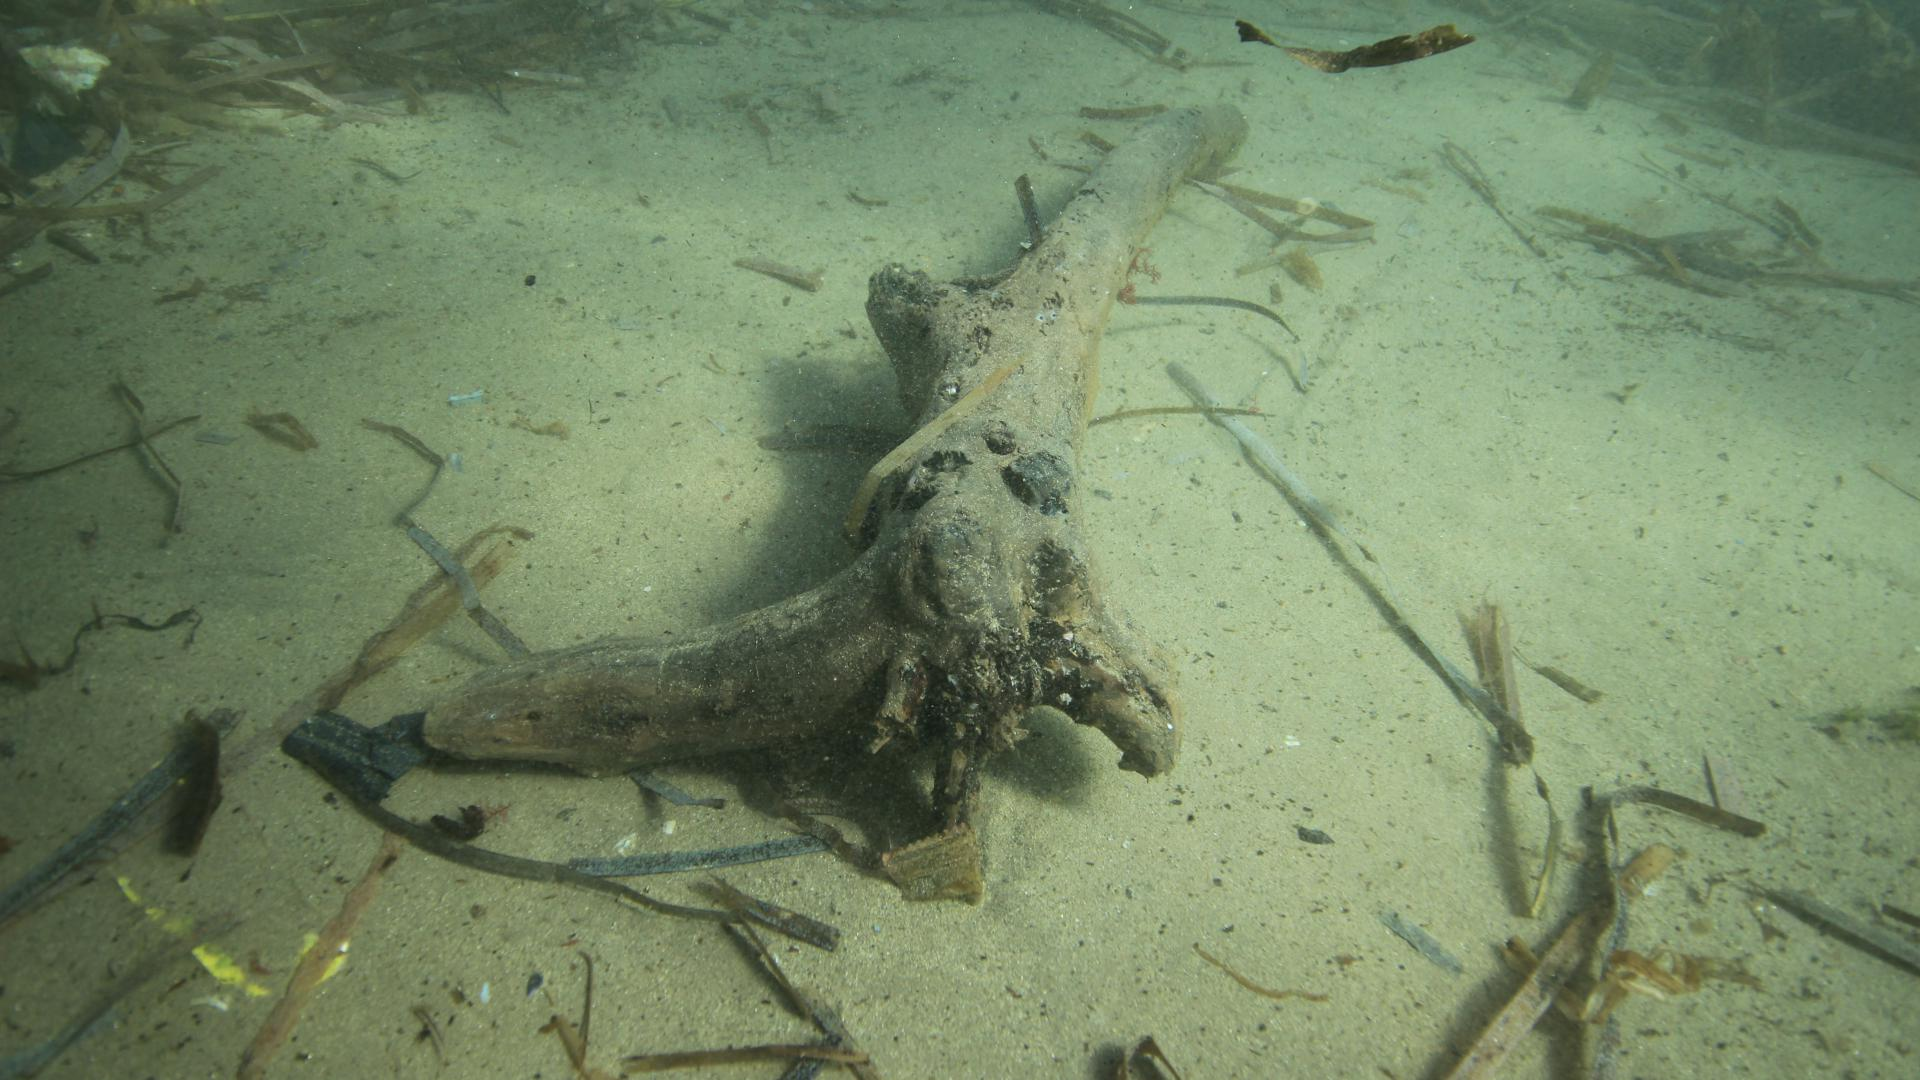wood: (425, 102, 1244, 815)
